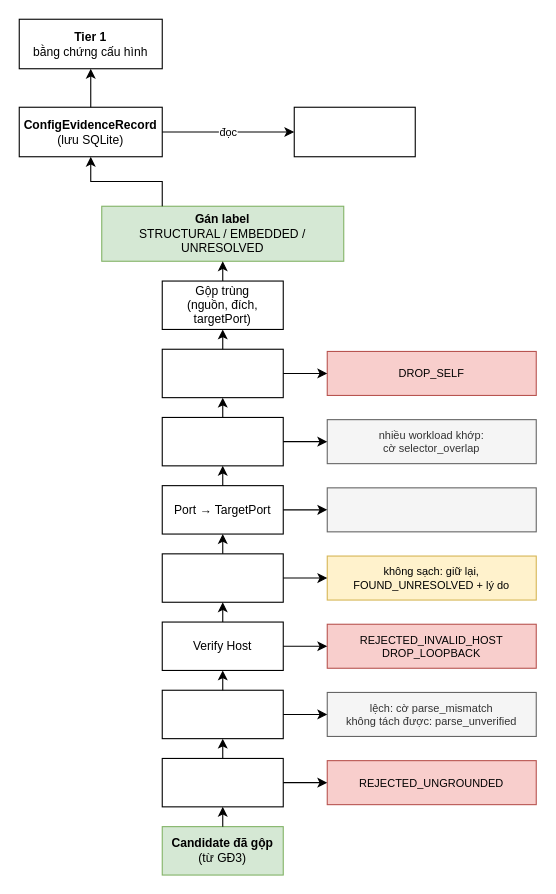
Image size: 556x894. Some labels were removed from this diagram. The shapes that lost their labels are listed below. From the top down, each one's box as (x1, y1, x2, y2) in pixels, then its label:
(293, 106, 415, 157): Dashboard
(161, 348, 283, 398): Check self-called
(161, 416, 283, 466): Identity đích
(326, 487, 536, 532): cờ port_inferred / port_mismatch
(161, 553, 283, 602): Phân giải đích
(161, 689, 283, 739): Parse (code tự tách địa chỉ)
(161, 757, 283, 807): Grounding
